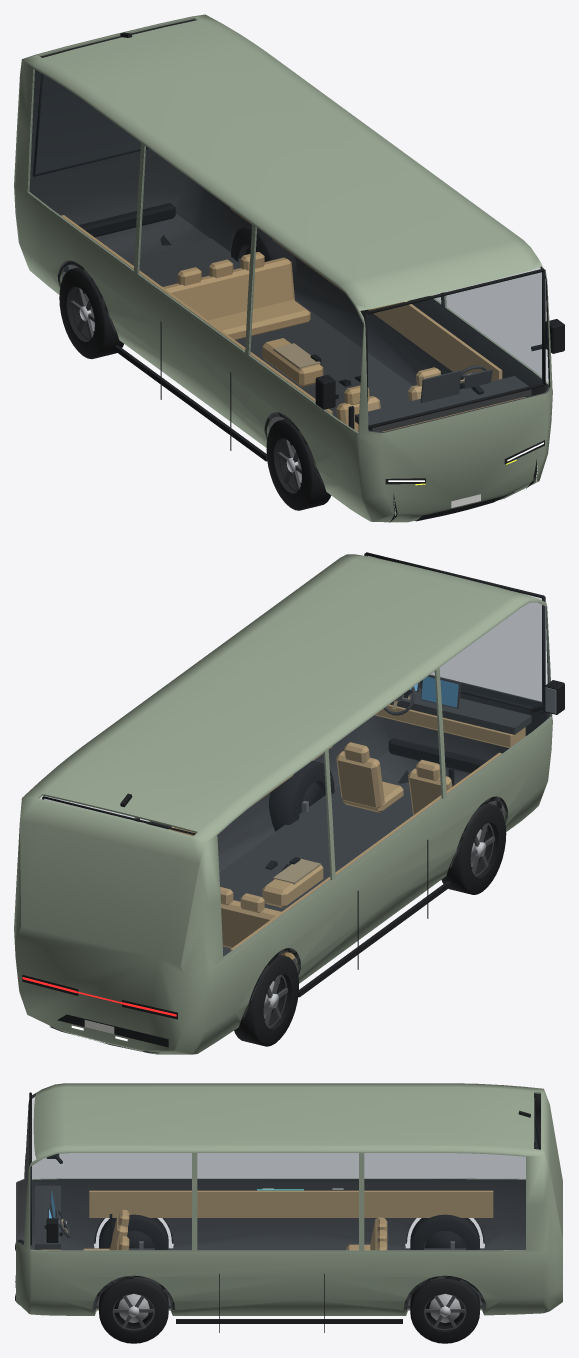
File: training-light-truck.glb
3 views of the same model, one above another, from view 1: azimuth 30°, elevation 25°; view 2: azimuth 150°, elevation 25°; view 3: azimuth 270°, elevation 25° (orthographic). The views are drawn at different scales.
Parts seen in each view (by area): view 1: Body, Surface_CarRoot_Glass, Interior_CarRoot_InteriorLeather, Interior_CarRoot_InteriorDark, Surface_CarRoot_BlackTrim, Surface_WheelFrontR_Tyre, Surface_WheelRearR_Tyre, Surface_WheelRearL_Tyre, Surface_CarRoot_Cladding, Interior_CarRoot_InteriorTrim; view 2: Body, Surface_CarRoot_Glass, Interior_CarRoot_InteriorDark, Interior_CarRoot_InteriorLeather, Surface_CarRoot_BlackTrim, Surface_WheelRearR_Tyre, Surface_WheelFrontR_Tyre, Surface_WheelFrontL_Tyre, InteriorCenterScreen, Surface_CarRoot_Cladding, Interior_CarRoot_InteriorTrim; view 3: Body, Surface_CarRoot_Glass, Interior_CarRoot_InteriorLeather, Surface_WheelFrontL_Tyre, Surface_WheelRearL_Tyre, Interior_CarRoot_InteriorDark, Surface_CarRoot_BlackTrim, Surface_WheelRearR_Tyre, Surface_WheelFrontR_Tyre, Surface_CarRoot_Cladding, Surface_WheelRearL_Rim, Surface_WheelFrontL_Rim (+2 smaller).
Boxes of the visible parts, <box> form: Body: <box>14,14,552,522</box>; Surface_CarRoot_Glass: <box>28,70,548,432</box>; Interior_CarRoot_InteriorLeather: <box>61,208,525,431</box>; Interior_CarRoot_InteriorDark: <box>62,238,531,447</box>; Surface_CarRoot_BlackTrim: <box>32,32,564,522</box>; Surface_WheelFrontR_Tyre: <box>266,419,331,510</box>; Surface_WheelRearR_Tyre: <box>59,267,123,359</box>; Surface_WheelRearL_Tyre: <box>231,225,296,285</box>; Surface_CarRoot_Cladding: <box>57,260,323,483</box>; Interior_CarRoot_InteriorTrim: <box>273,343,320,369</box>; Body: <box>14,554,552,1054</box>; Surface_CarRoot_Glass: <box>40,595,551,957</box>; Interior_CarRoot_InteriorDark: <box>219,675,531,983</box>; Interior_CarRoot_InteriorLeather: <box>168,704,525,959</box>; Surface_CarRoot_BlackTrim: <box>22,552,564,1053</box>; Surface_WheelRearR_Tyre: <box>234,955,298,1046</box>; Surface_WheelFrontR_Tyre: <box>441,803,506,894</box>; Surface_WheelFrontL_Tyre: <box>268,760,334,831</box>; InteriorCenterScreen: <box>421,676,458,707</box>; Surface_CarRoot_Cladding: <box>242,796,507,1019</box>; Interior_CarRoot_InteriorTrim: <box>273,858,320,884</box>; Body: <box>16,1083,562,1315</box>; Surface_CarRoot_Glass: <box>30,1097,538,1250</box>; Interior_CarRoot_InteriorLeather: <box>40,1190,493,1250</box>; Surface_WheelFrontL_Tyre: <box>99,1278,168,1343</box>; Surface_WheelRearL_Tyre: <box>410,1278,479,1343</box>; Interior_CarRoot_InteriorDark: <box>35,1185,513,1307</box>; Surface_CarRoot_BlackTrim: <box>15,1092,540,1332</box>; Surface_WheelRearR_Tyre: <box>410,1214,479,1250</box>; Surface_WheelFrontR_Tyre: <box>99,1214,168,1250</box>; Surface_CarRoot_Cladding: <box>92,1218,486,1309</box>; Surface_WheelRearL_Rim: <box>424,1295,466,1330</box>; Surface_WheelFrontL_Rim: <box>112,1295,154,1330</box>.
Size of the model in its own units: 2.77 by 2.86 by 7.26.
